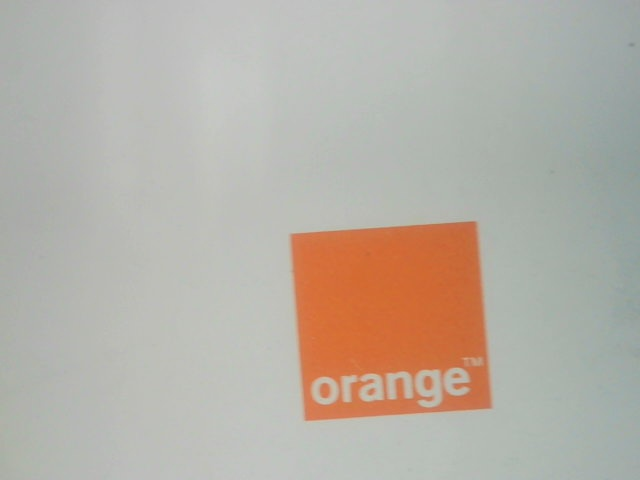AR_Orange: (284, 219, 499, 421)
